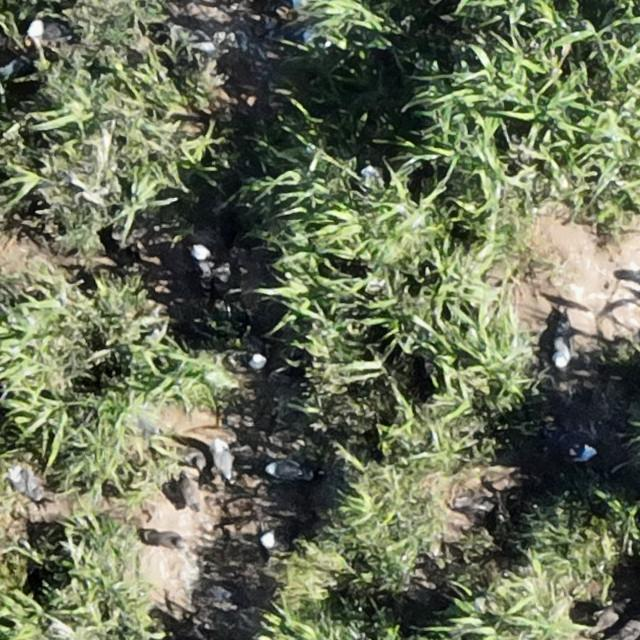umineko: (238, 330, 266, 371), (8, 472, 43, 502), (214, 440, 231, 478), (31, 21, 64, 40), (265, 462, 298, 480), (552, 338, 568, 368), (191, 243, 211, 262), (574, 445, 595, 462), (260, 532, 277, 552)
